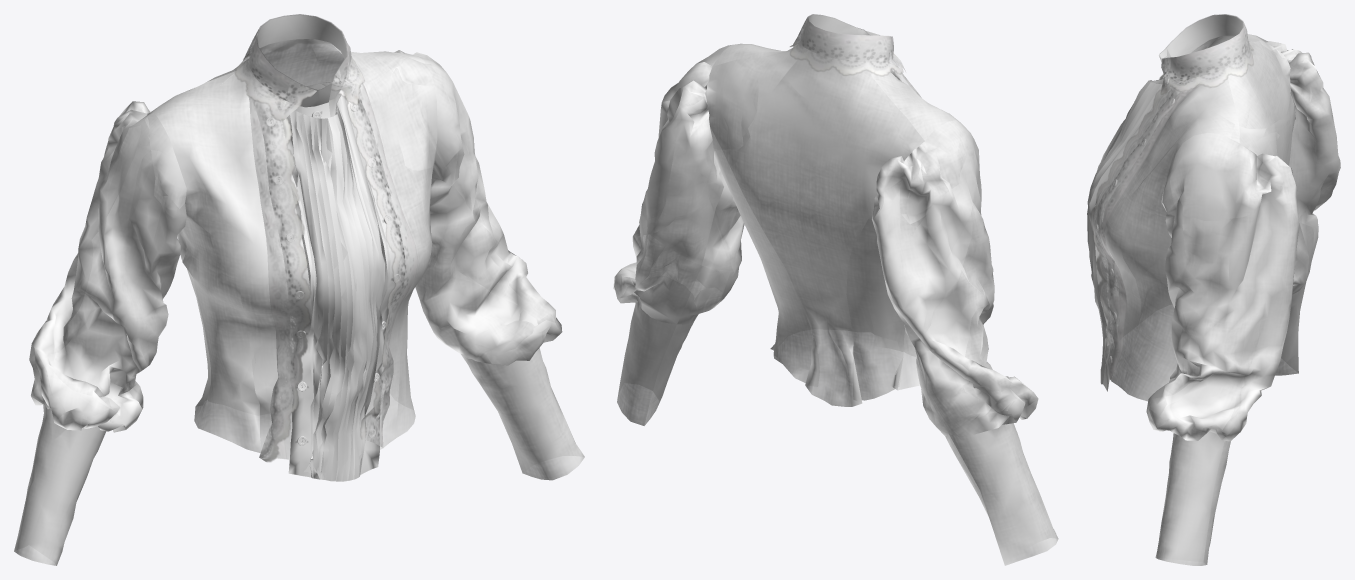
3 renders of one model, left to right at view 1: azimuth 30°, elevation 25°; view 2: azimuth 150°, elevation 25°; view 3: azimuth 270°, elevation 25°, orthographic. The views are drawn at different scales.
Visible parts, largest first — view 1: Cloth_mesh; view 2: Cloth_mesh; view 3: Cloth_mesh.
Part boxes in pixels (x1,y1,x2,y2): Cloth_mesh: (14, 14, 584, 565); Cloth_mesh: (613, 14, 1058, 565); Cloth_mesh: (1087, 14, 1340, 565).
Bounding box in the file's own units: 0.6805 × 0.6311 × 0.3259.
2 materials, 2 textured.
